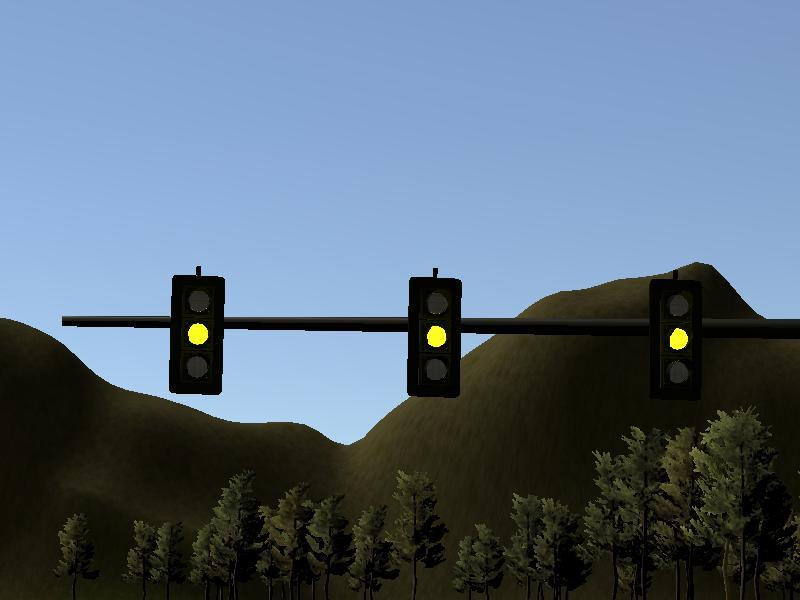Yellow: (407, 277, 461, 398), (649, 279, 703, 399), (171, 275, 224, 395)
